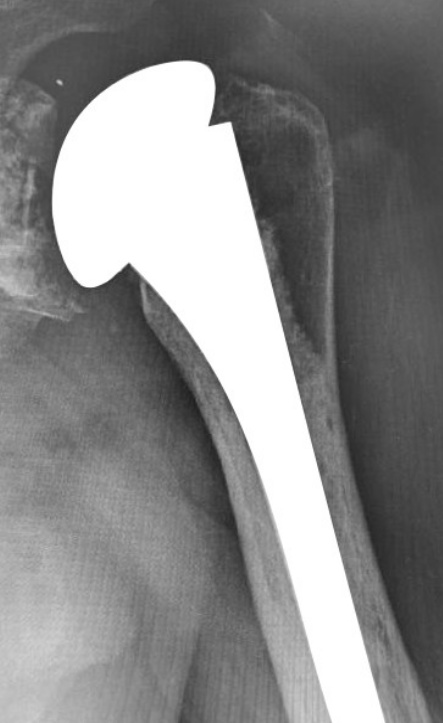Shoulder - Anotomyhead - Stryker: (42, 38, 254, 333)
Shoulder - Anotomytail - Stryker: (114, 97, 334, 491)
